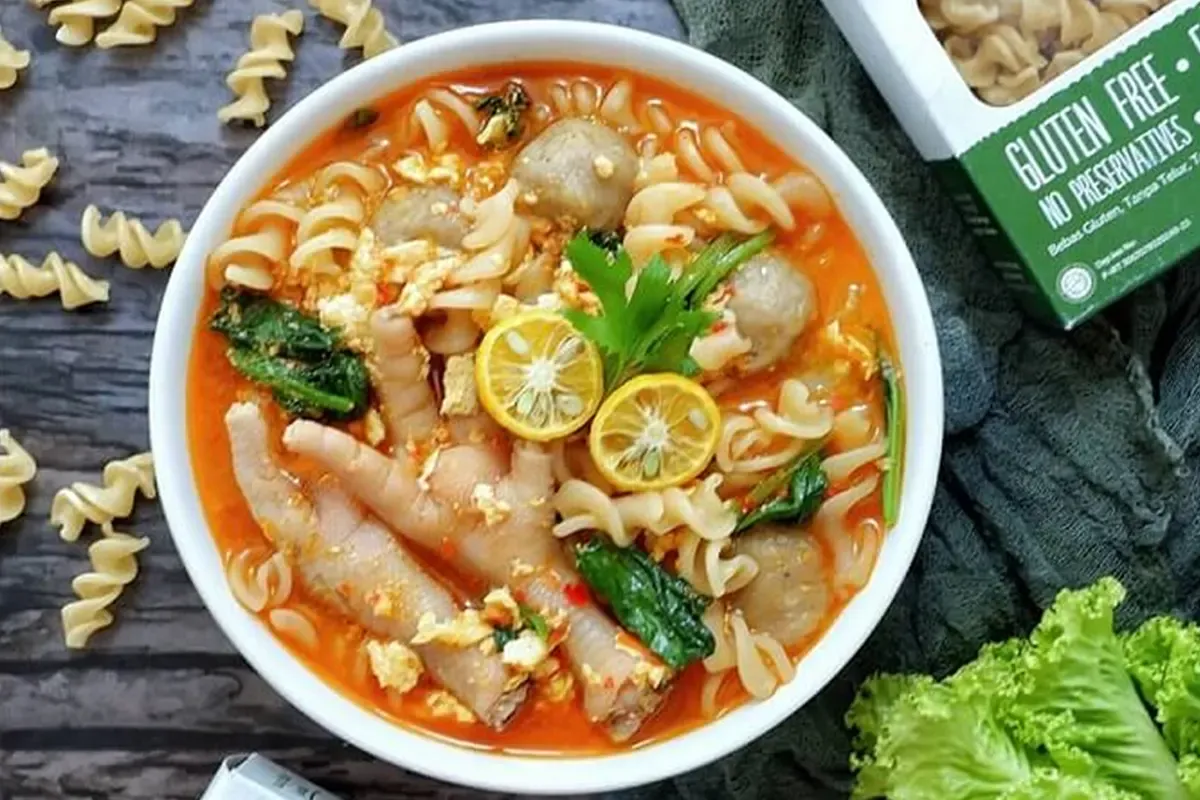seblak: (188, 58, 909, 760)
